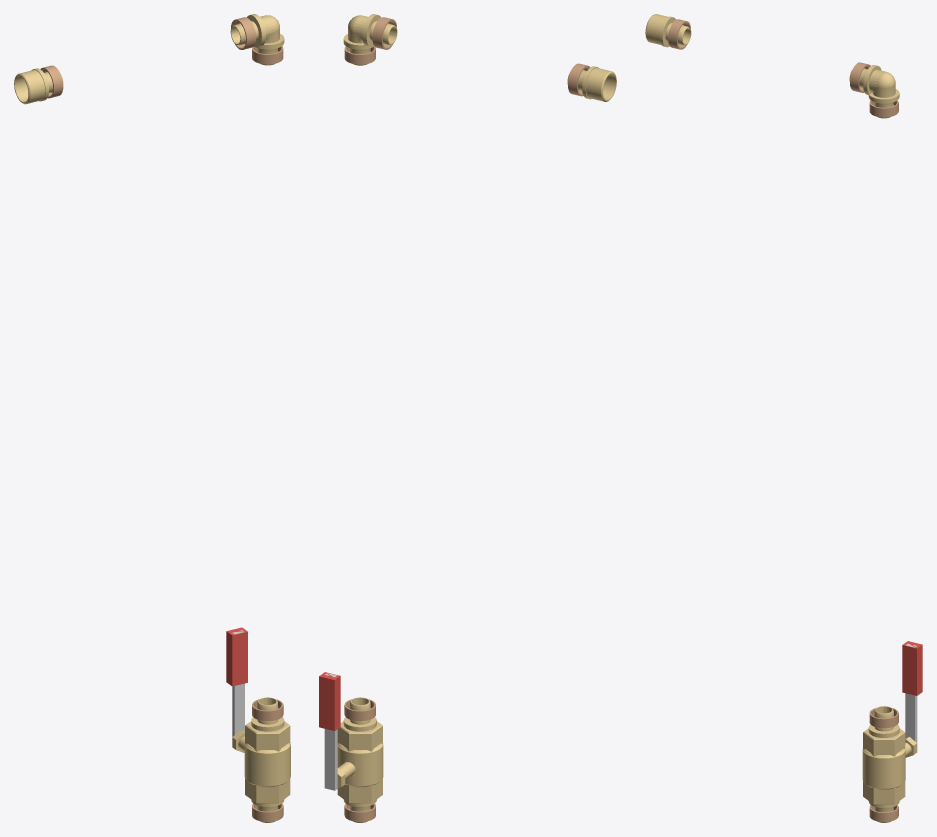
The model's file is pipes_supply__water_heater__eb76e280.glb.
3 renders of one model, left to right at view 1: azimuth 30°, elevation 25°; view 2: azimuth 150°, elevation 25°; view 3: azimuth 330°, elevation 25°, orthographic. The views are drawn at different scales.
Parts seen in each view (by area): view 1: valve_supply_wh_cold__pex, fit_pexelbow_pipe_supply_cold_riser__pex_0, fit_adapter_pipe_supply_cold_riser__pex; view 2: valve_supply_wh_cold__pex, fit_pexelbow_pipe_supply_cold_riser__pex_0, fit_adapter_pipe_supply_cold_riser__pex; view 3: valve_supply_wh_cold__pex, fit_pexelbow_pipe_supply_cold_riser__pex_0, fit_adapter_pipe_supply_cold_riser__pex.
Boxes of the visible parts, x1,y1,x2,y2 form: valve_supply_wh_cold__pex: [226, 627, 290, 822]; fit_pexelbow_pipe_supply_cold_riser__pex_0: [230, 14, 284, 65]; fit_adapter_pipe_supply_cold_riser__pex: [14, 65, 63, 104]; valve_supply_wh_cold__pex: [319, 672, 383, 822]; fit_pexelbow_pipe_supply_cold_riser__pex_0: [343, 14, 397, 65]; fit_adapter_pipe_supply_cold_riser__pex: [567, 63, 616, 101]; valve_supply_wh_cold__pex: [862, 641, 922, 822]; fit_pexelbow_pipe_supply_cold_riser__pex_0: [849, 62, 899, 118]; fit_adapter_pipe_supply_cold_riser__pex: [645, 14, 691, 49].
Bounding box in the file's own units: 0.2374 × 0.6824 × 0.0691.
